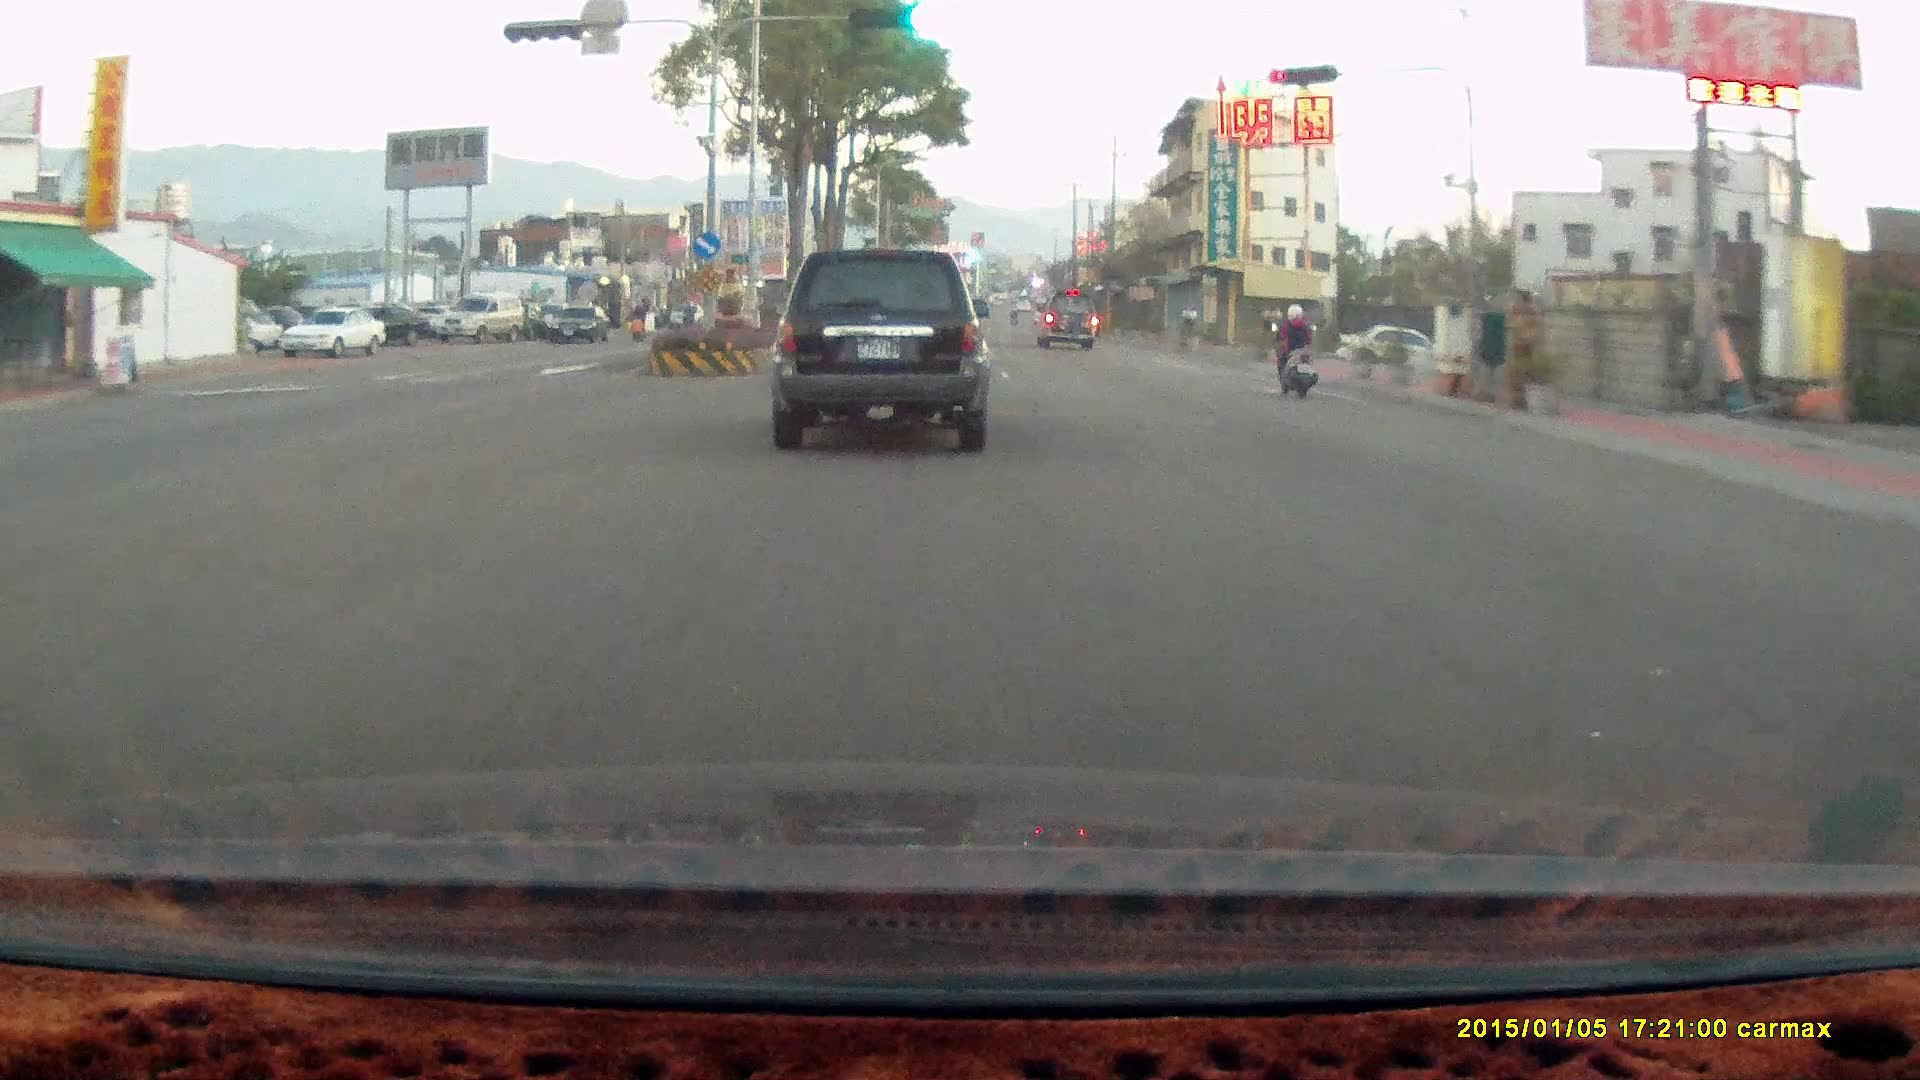rider: (1260, 295, 1327, 406), (1266, 300, 1315, 397)
vehicle: (778, 255, 1001, 461), (771, 248, 992, 450), (1333, 323, 1452, 375), (280, 305, 385, 359), (286, 309, 391, 363), (434, 293, 527, 344), (1340, 325, 1435, 375), (434, 292, 526, 343), (1039, 293, 1098, 358), (341, 306, 428, 349), (1033, 289, 1096, 348), (551, 306, 613, 346), (549, 304, 611, 343)
